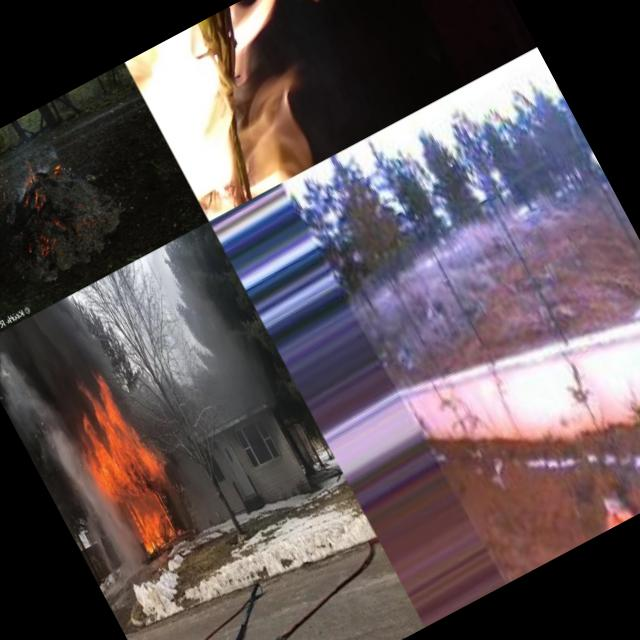fire: (124, 0, 407, 221), (63, 384, 171, 511), (580, 472, 638, 532), (128, 501, 178, 558), (33, 228, 60, 258), (28, 188, 49, 212), (20, 158, 38, 184), (49, 162, 63, 176)
smoke: (134, 230, 284, 435), (0, 350, 135, 570), (16, 290, 126, 412), (28, 140, 61, 172), (10, 173, 31, 197)
